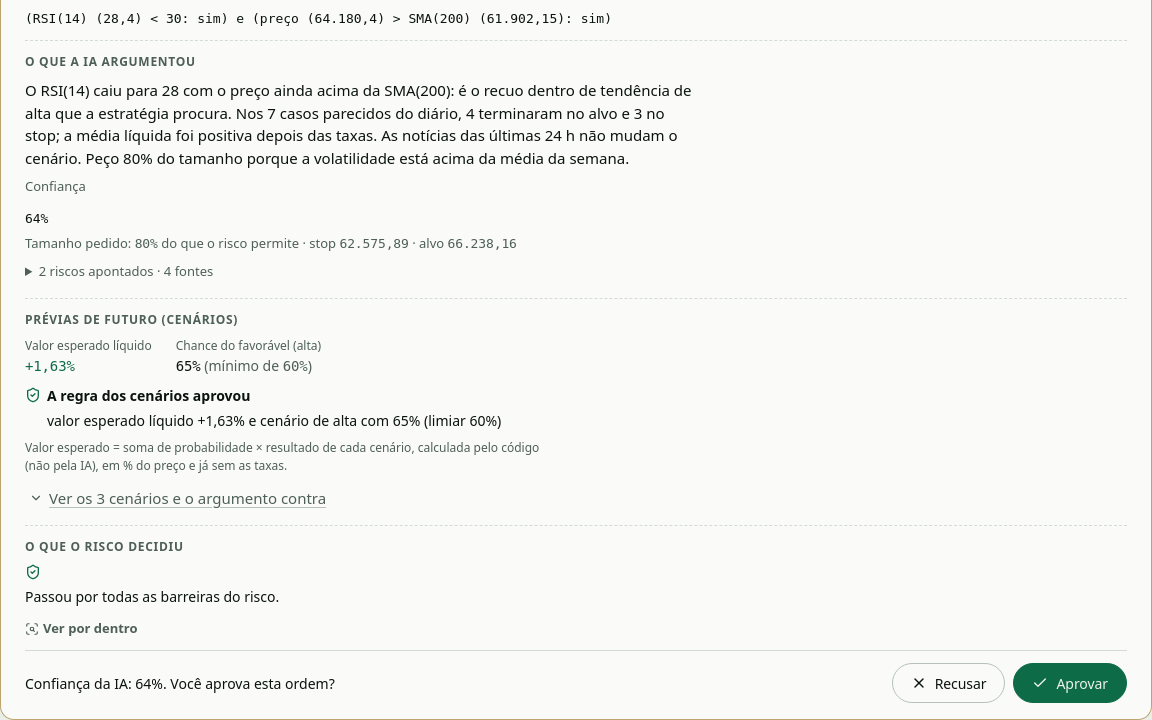
Test case: CartaoDecisao › recusa e mostra o erro da API quando a decisão já expirou
(page scrolled)
Click the button "Recusar" at x=949, y=683, box left=892, top=663, right=1006, bottom=703
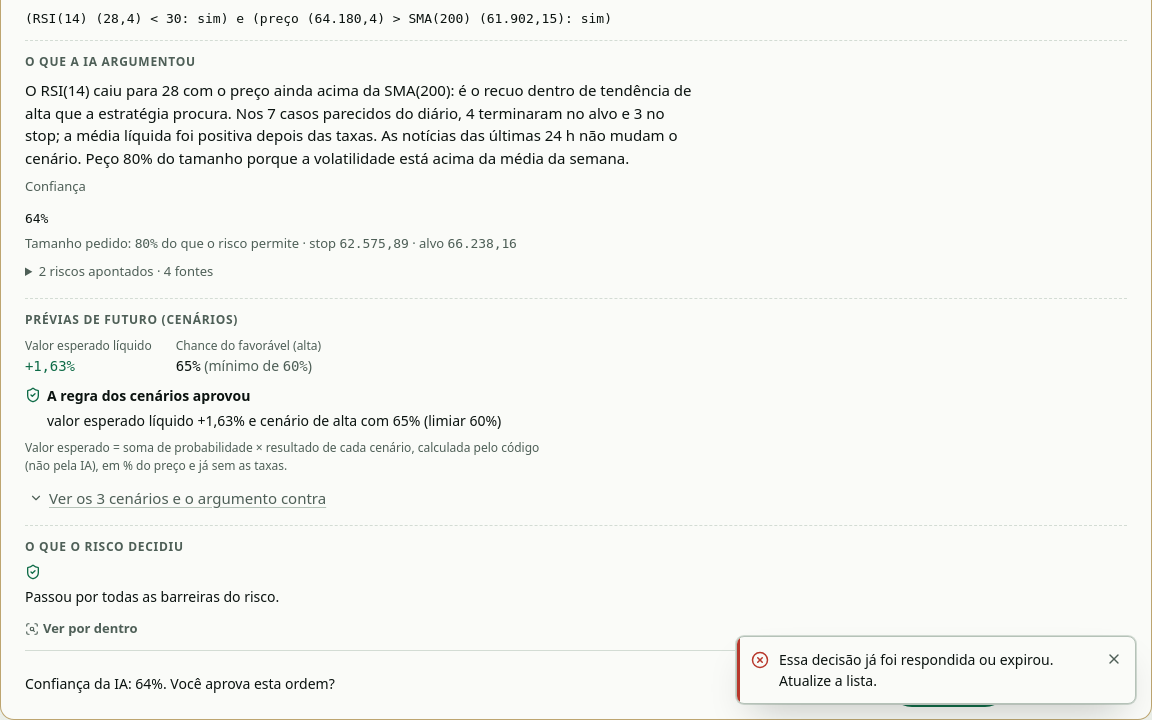
Expected: the text "Essa decisão já foi respondida ou expirou. Atualize a lista." is shown, left=779, top=649, right=1089, bottom=691
